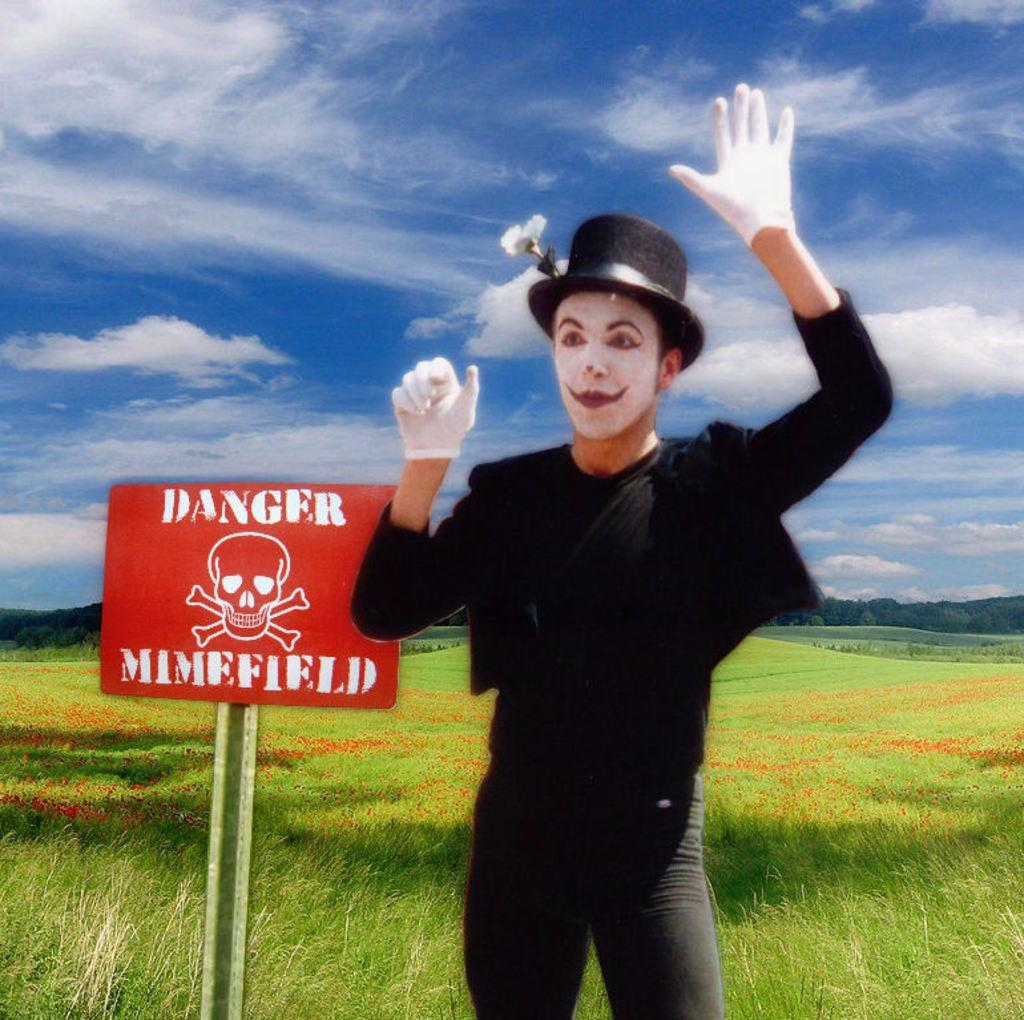Hat: (497, 211, 708, 374)
